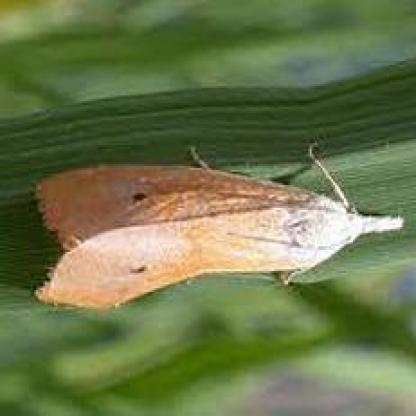stem-borer: (32, 142, 406, 307)
